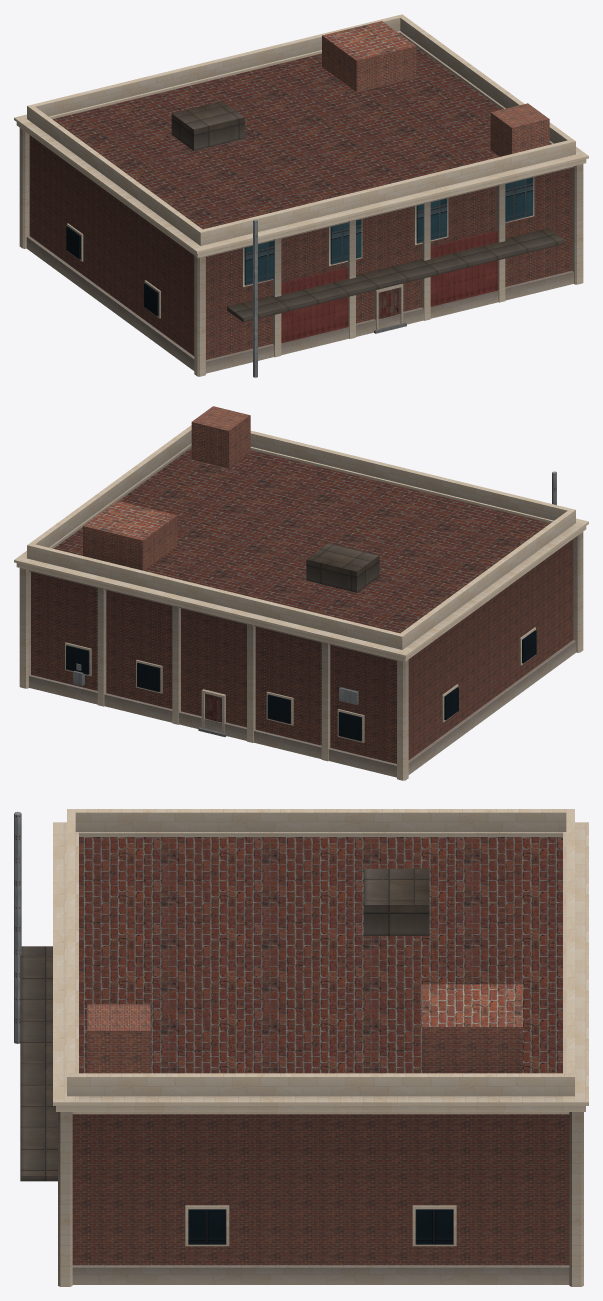
Rendered from fire-station_lod0.gltf.
3 renders of one model, top to bottom at view 1: azimuth 30°, elevation 25°; view 2: azimuth 150°, elevation 25°; view 3: azimuth 270°, elevation 25°, orthographic. The views are drawn at different scales.
Visible parts, largest first — view 1: fire-station_tier0, fire-station__v4_stone_detail, fire-station__v4_metal_detail, fire-station_tier1, fire-station_fen_07-glass-curtain-blue_5, fire-station__bay_door_a, fire-station__bay_door_b, fire-station__hose_tower, fire-station_fen_04-limestone_0, fire-station__flag_pole, fire-station_fen_07-glass-curtain-blue_6_t; view 2: fire-station_tier0, fire-station__v4_stone_detail, fire-station_tier1, fire-station_fen_07-glass-curtain-blue_6_t, fire-station__hose_tower, fire-station__v4_metal_detail, fire-station_fen_04-limestone_0, fire-station_fen_14-steel-panel_7; view 3: fire-station_tier0, fire-station__v4_stone_detail, fire-station__v4_metal_detail, fire-station_tier1, fire-station__hose_tower, fire-station_fen_07-glass-curtain-blue_6_t, fire-station__flag_pole, fire-station_fen_04-limestone_0.
Part boxes in pixels (x1,y1,x2,y2): fire-station_tier0: [29, 47, 571, 359]; fire-station__v4_stone_detail: [14, 14, 588, 376]; fire-station__v4_metal_detail: [171, 101, 564, 322]; fire-station_tier1: [322, 21, 416, 91]; fire-station_fen_07-glass-curtain-blue_5: [244, 177, 533, 285]; fire-station__bay_door_a: [281, 267, 348, 343]; fire-station__bay_door_b: [430, 231, 497, 306]; fire-station__hose_tower: [490, 103, 549, 156]; fire-station_fen_04-limestone_0: [67, 177, 534, 329]; fire-station__flag_pole: [253, 219, 257, 377]; fire-station_fen_07-glass-curtain-blue_6_t: [66, 226, 158, 316]; fire-station_tier0: [31, 447, 573, 763]; fire-station__v4_stone_detail: [14, 425, 588, 780]; fire-station_tier1: [83, 500, 177, 570]; fire-station_fen_07-glass-curtain-blue_6_t: [66, 630, 536, 741]; fire-station__hose_tower: [191, 406, 250, 468]; fire-station__v4_metal_detail: [306, 543, 379, 592]; fire-station_fen_04-limestone_0: [65, 627, 535, 742]; fire-station_fen_14-steel-panel_7: [73, 663, 358, 704]; fire-station_tier0: [72, 837, 569, 1265]; fire-station__v4_stone_detail: [53, 809, 588, 1286]; fire-station__v4_metal_detail: [20, 868, 429, 1181]; fire-station_tier1: [422, 984, 522, 1072]; fire-station__hose_tower: [87, 1004, 150, 1073]; fire-station_fen_07-glass-curtain-blue_6_t: [188, 1209, 453, 1244]; fire-station__flag_pole: [14, 811, 21, 1043]; fire-station_fen_04-limestone_0: [185, 1205, 456, 1246].
Bounding box in the file's own units: 26.22 × 10.4 × 22.76.
